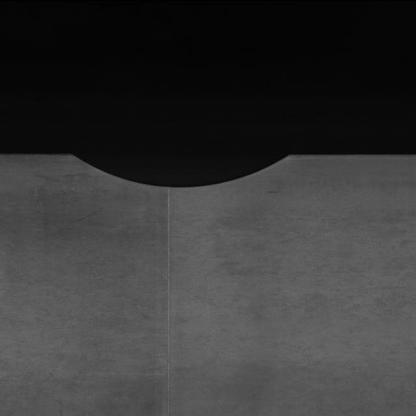crescent_gap: (60, 129, 307, 194)
welding_line: (147, 178, 186, 414)
